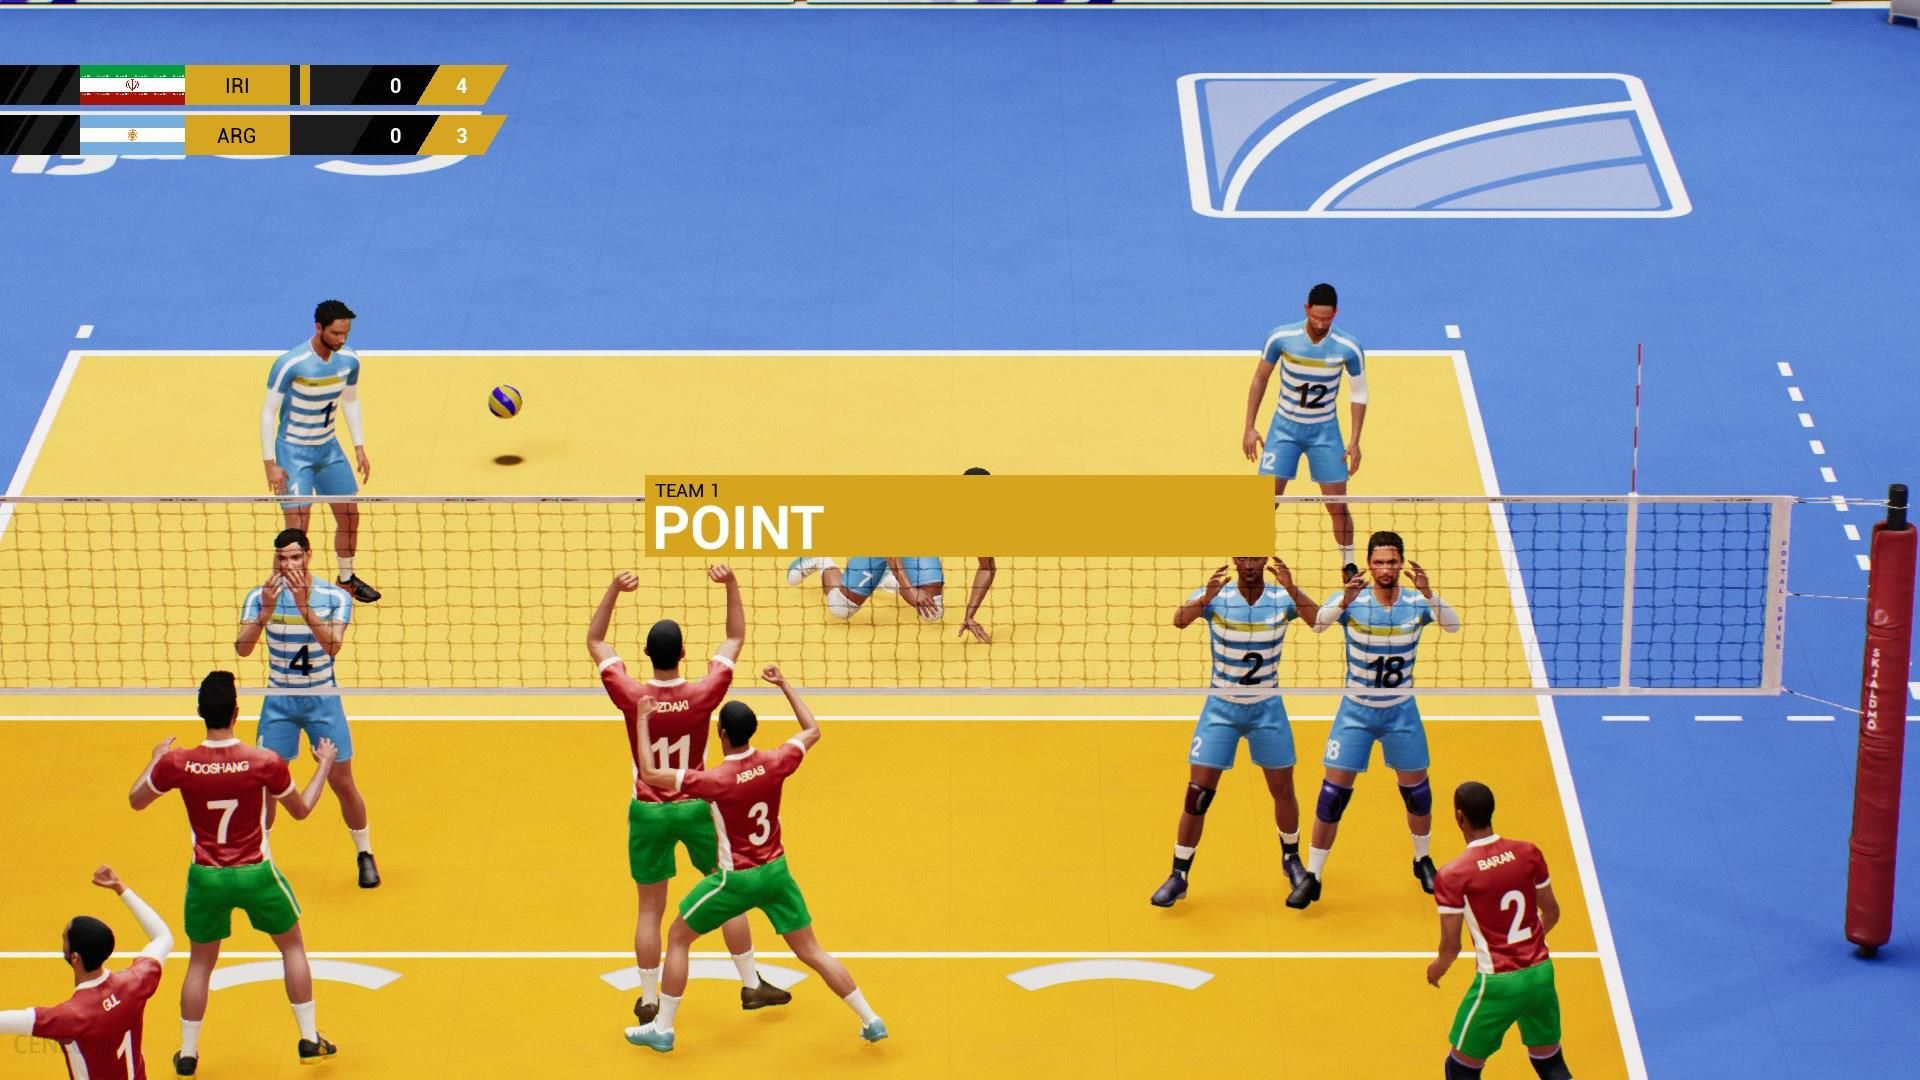ball: (487, 385, 522, 418)
